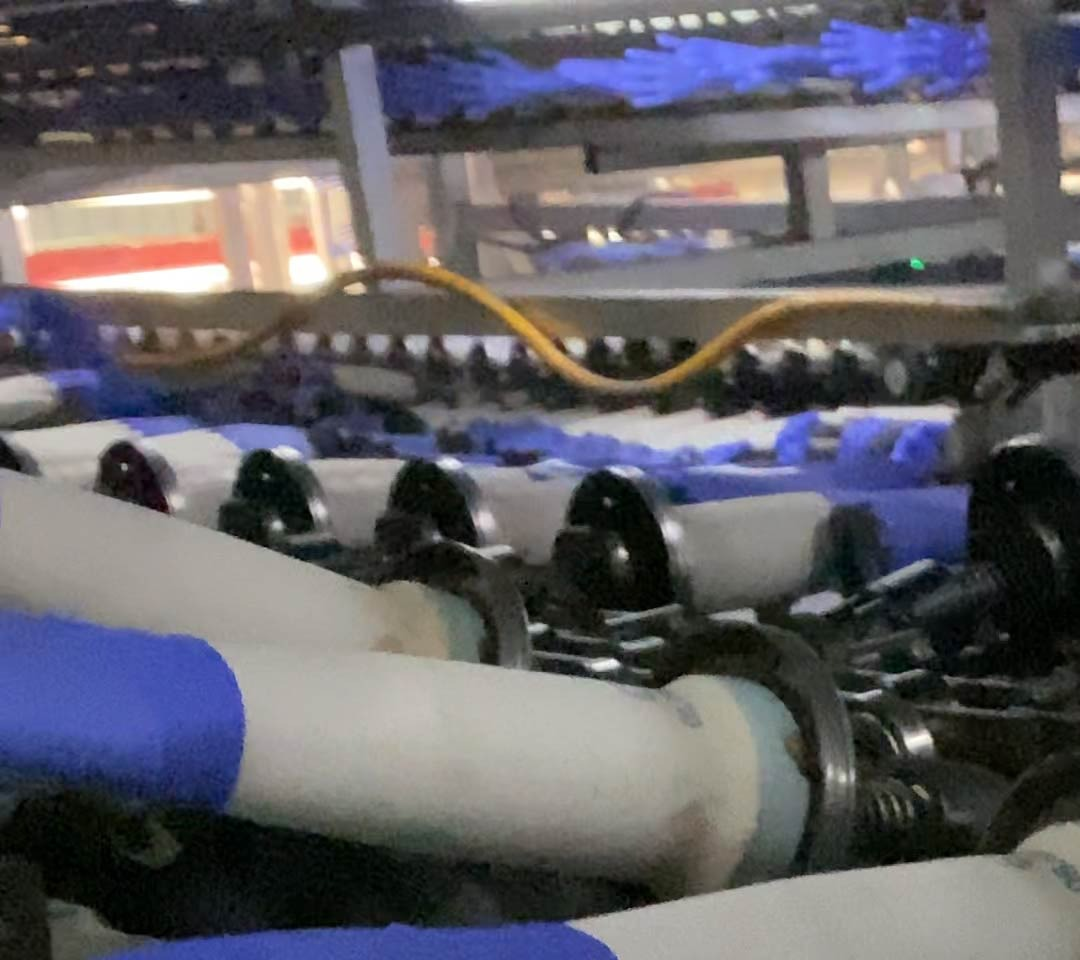glove: (620, 30, 800, 102), (426, 45, 559, 122), (896, 8, 993, 98), (819, 15, 912, 94)
